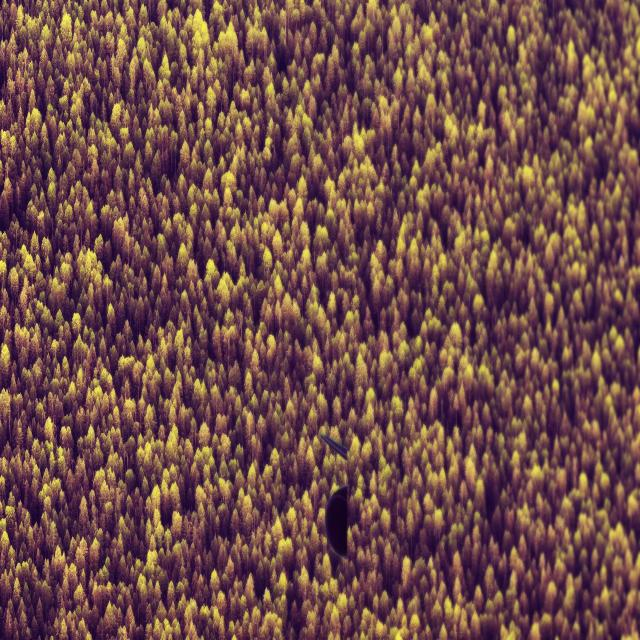airplane: (321, 435, 348, 559)
